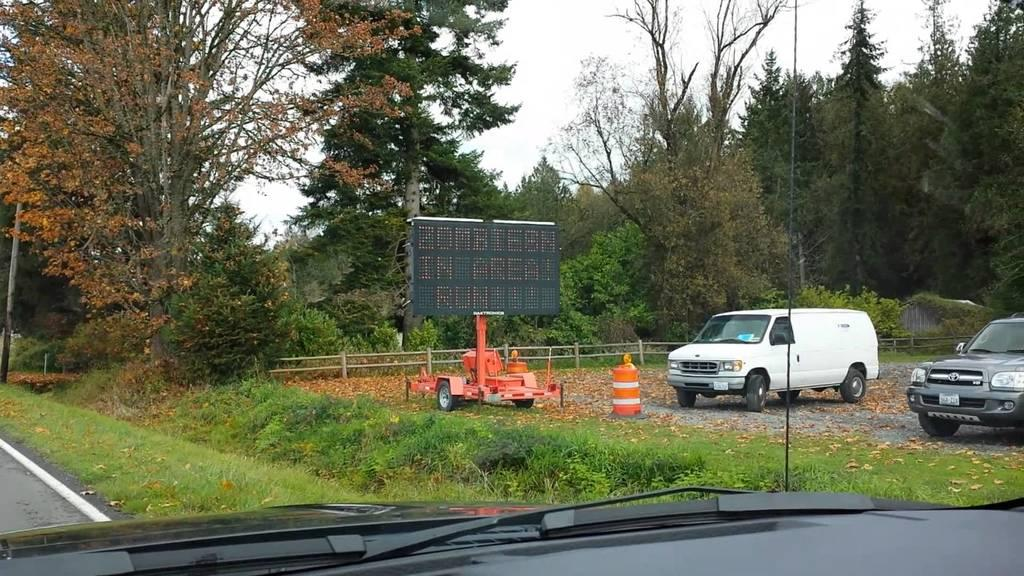vehicle: (667, 308, 880, 412), (907, 311, 1024, 437)
